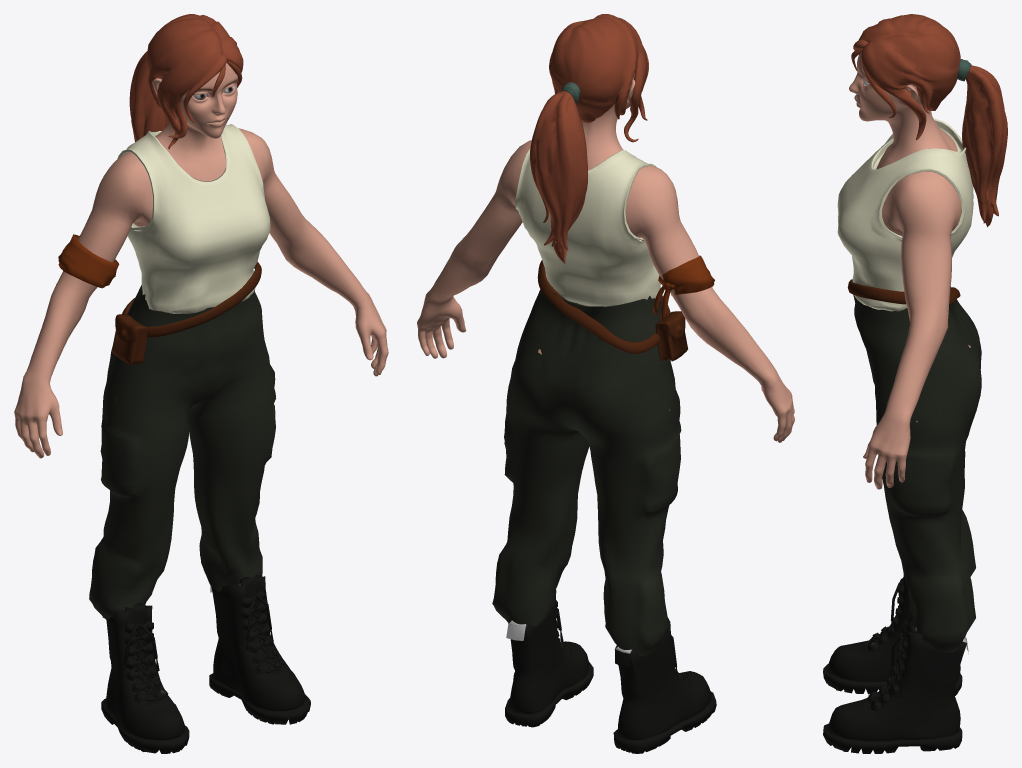
3 views of the same model, side by side, from view 1: azimuth 30°, elevation 25°; view 2: azimuth 150°, elevation 25°; view 3: azimuth 270°, elevation 25° (orthographic).
Visible parts, largest first — view 1: pants, body, top, shoes, hair, belt, arm_band; view 2: pants, body, hair, shoes, top, belt, arm_band; view 3: pants, body, shoes, hair, top, belt.
Boxes of the visible parts, bbox=[...] form: pants: bbox=[89, 284, 275, 620]; body: bbox=[14, 63, 388, 584]; top: bbox=[117, 124, 270, 313]; shoes: bbox=[101, 574, 310, 753]; hair: bbox=[129, 14, 243, 149]; belt: bbox=[111, 261, 261, 365]; arm_band: bbox=[58, 234, 119, 288]; pants: bbox=[492, 289, 681, 655]; body: bbox=[417, 73, 794, 442]; hair: bbox=[530, 14, 648, 263]; shoes: bbox=[505, 590, 716, 753]; top: bbox=[515, 148, 660, 306]; belt: bbox=[537, 260, 687, 361]; arm_band: bbox=[653, 255, 714, 322]; pants: bbox=[853, 286, 981, 652]; body: bbox=[849, 53, 970, 489]; shoes: bbox=[823, 574, 968, 753]; hair: bbox=[851, 14, 1007, 227]; top: bbox=[837, 118, 973, 311]; belt: bbox=[847, 279, 960, 305].
Size of the model in its own units: 4.34 by 7.87 by 1.89.
Materials: 1 (1 with a texture image).
